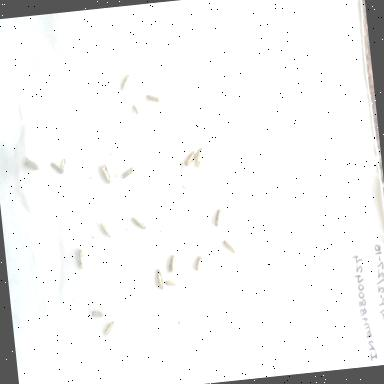pbw: (192, 139, 210, 171), (180, 146, 199, 171), (97, 162, 114, 188), (221, 233, 238, 259), (22, 155, 44, 175), (99, 318, 118, 340), (210, 205, 226, 231), (96, 218, 114, 240), (130, 213, 149, 233), (118, 72, 135, 94), (74, 244, 88, 270), (154, 266, 168, 292), (166, 252, 180, 274), (56, 156, 70, 178), (120, 165, 138, 181), (144, 92, 162, 107), (49, 160, 65, 176), (128, 102, 142, 120), (193, 252, 205, 273), (164, 276, 182, 290), (89, 306, 106, 320)
